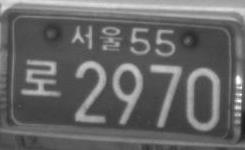0: (184, 65, 222, 132)
2: (73, 58, 108, 124)
5: (128, 26, 152, 56), (154, 27, 176, 58)
7: (147, 62, 183, 128)
9: (111, 61, 145, 125)
로: (20, 57, 62, 98)
서울_O: (69, 23, 123, 52)
